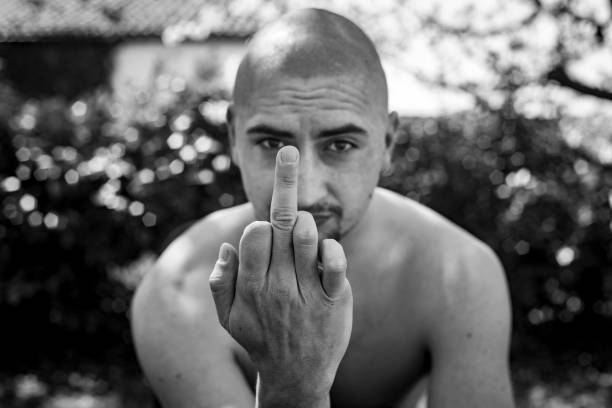insulting_gesture: (211, 144, 354, 390)
